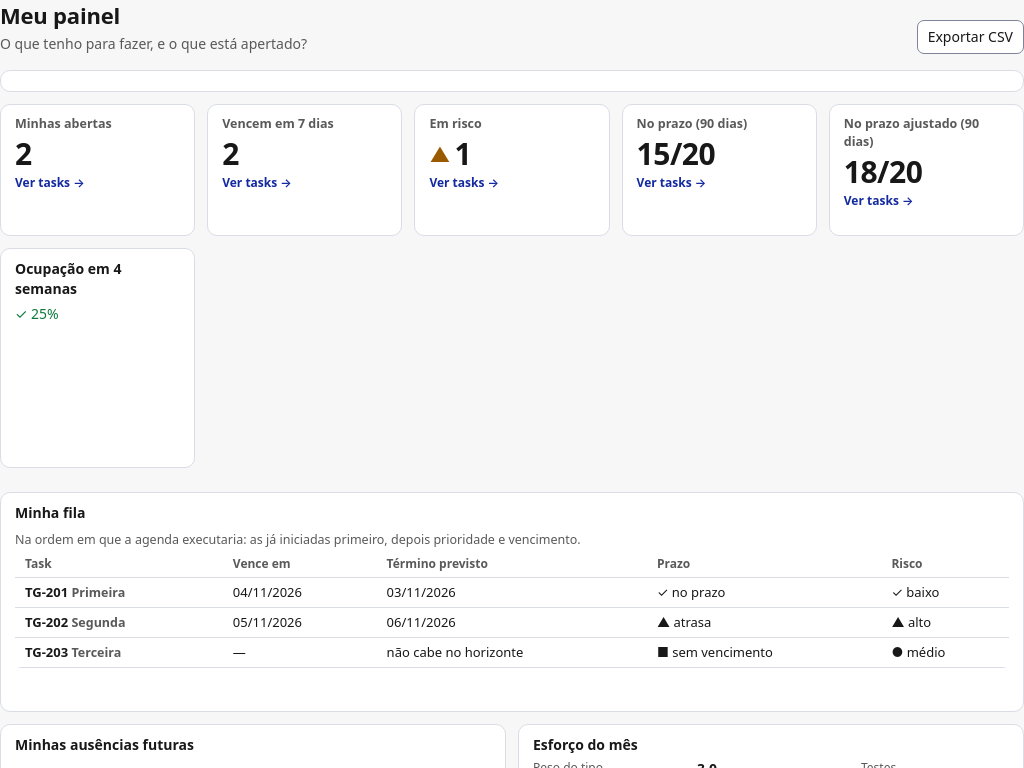
Test case: tela Meu painel › numerosAbremAGavetaDosCartoesMP
What coordinates should you click on to do the following:
click the button named "Vencem em 7 dias"
I would click on:
 (305, 164)
Its box is [222,137,387,192].
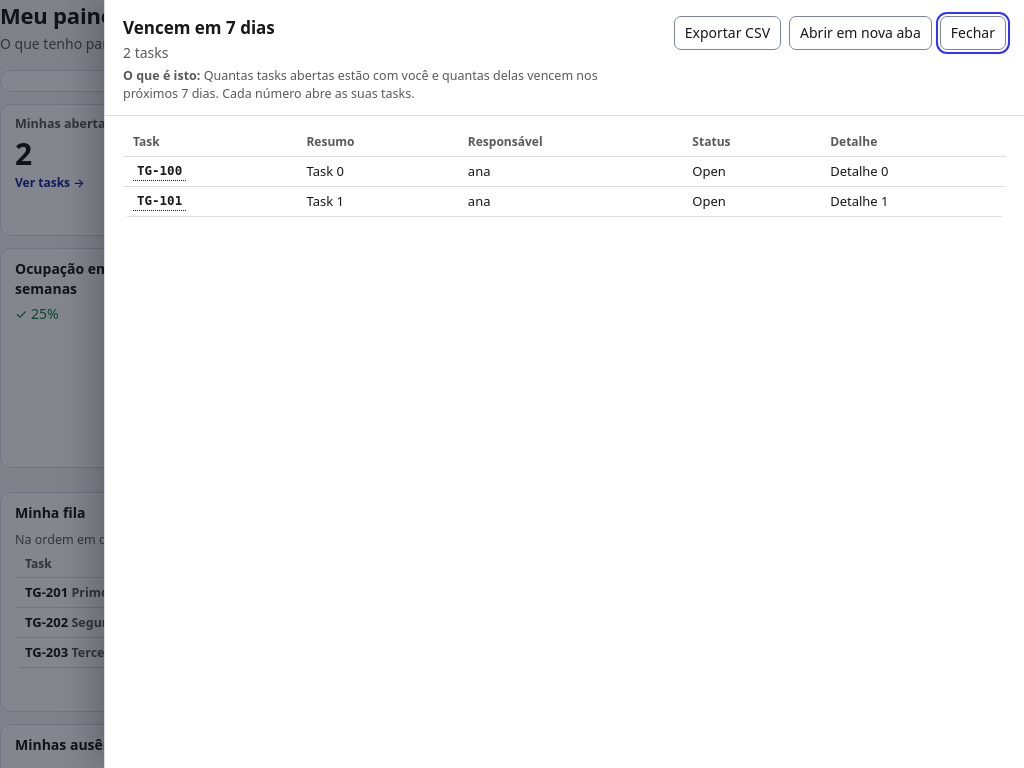
Result: the dialog is shown
